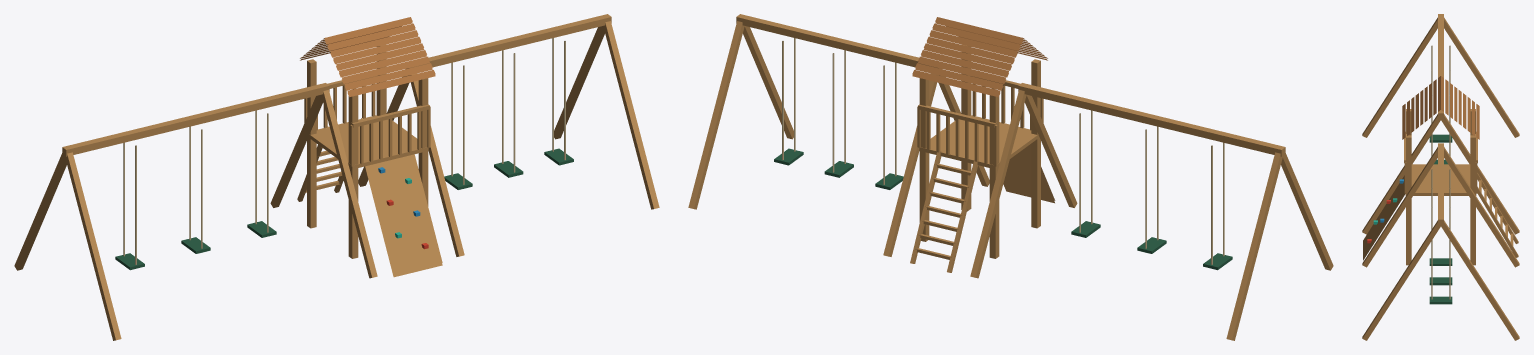
3 renders of one model, left to right at view 1: azimuth 30°, elevation 25°; view 2: azimuth 150°, elevation 25°; view 3: azimuth 270°, elevation 25°, orthographic. The views are drawn at different scales.
Visible parts, largest first — view 1: SW-E105; view 2: SW-E105; view 3: SW-E105.
Part boxes in pixels (bbox=[...]): SW-E105: bbox=[14, 14, 659, 340]; SW-E105: bbox=[688, 14, 1333, 340]; SW-E105: bbox=[1362, 14, 1519, 340].
Bounding box in the file's own units: 9.1 × 3.3 × 2.94.
